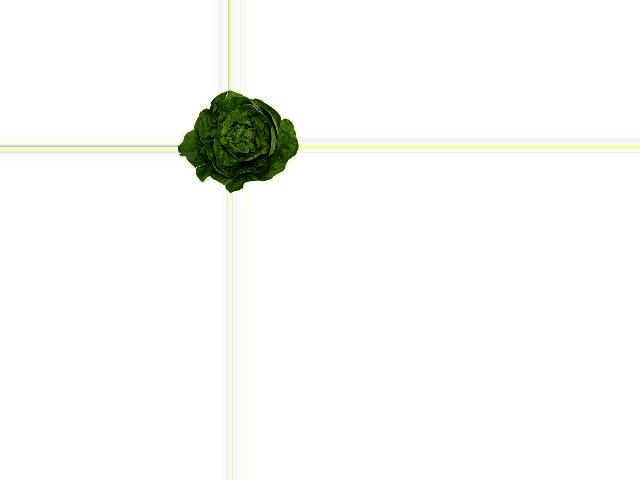lettuce: (181, 91, 299, 192)
